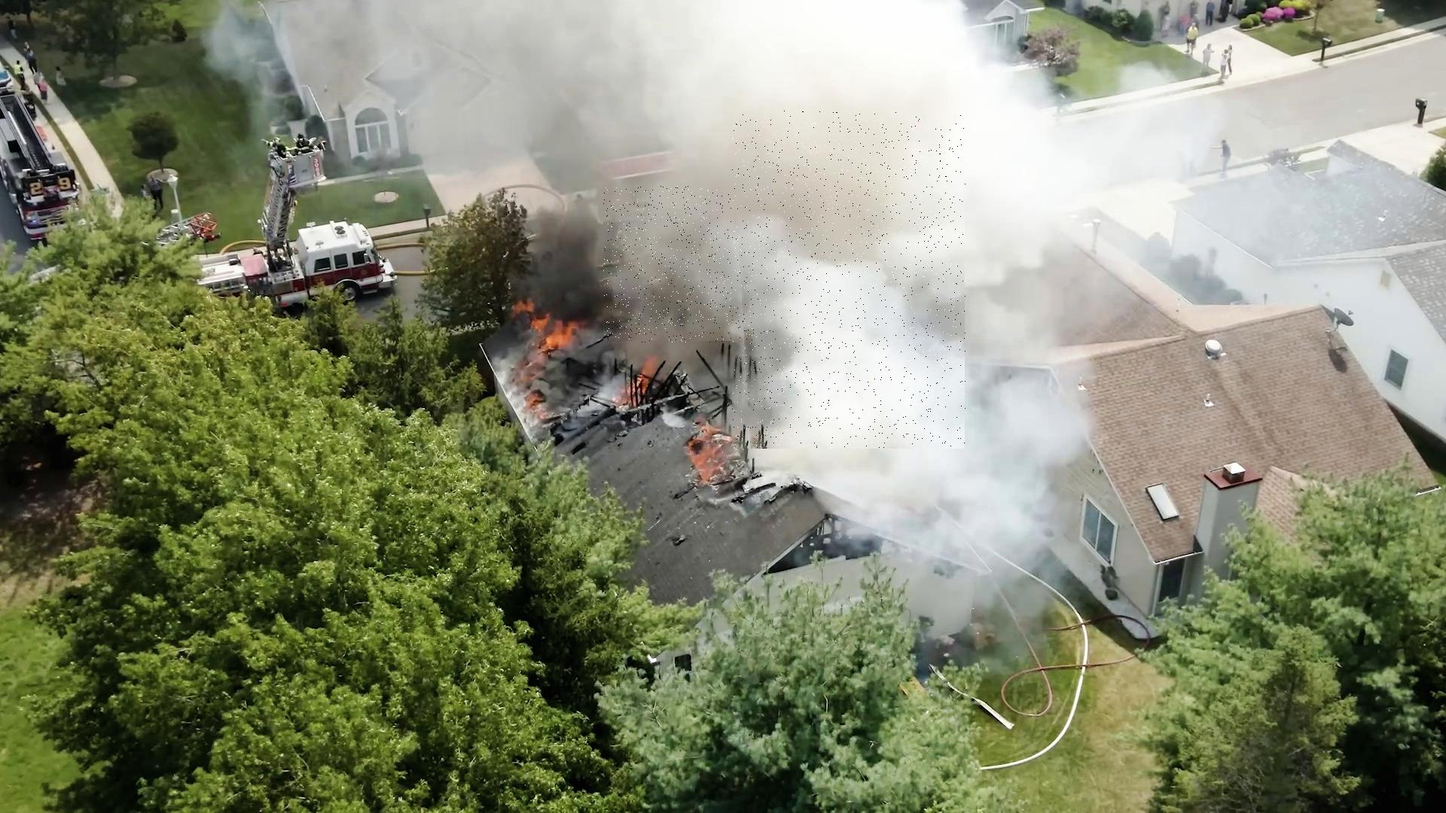smoke: (733, 110, 967, 449), (603, 187, 876, 343)
